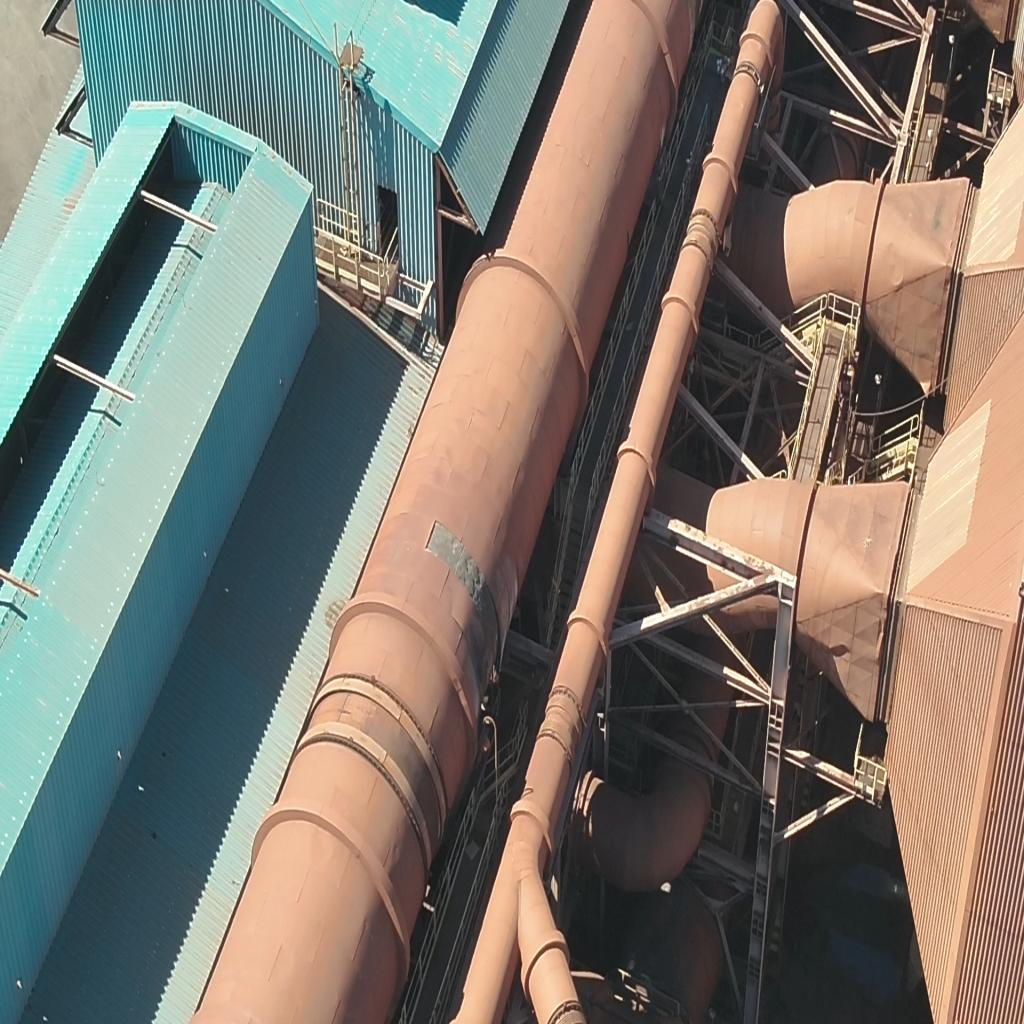Failures: (424, 515, 503, 684)
